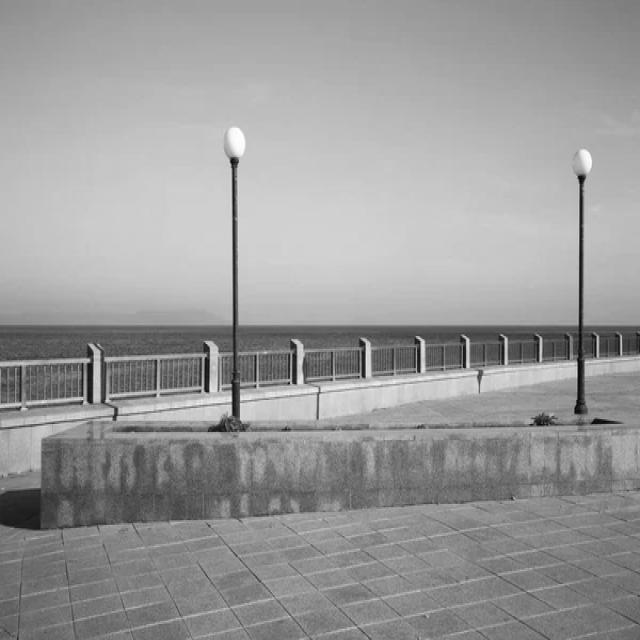Pole: (224, 126, 245, 420), (574, 149, 594, 415)
